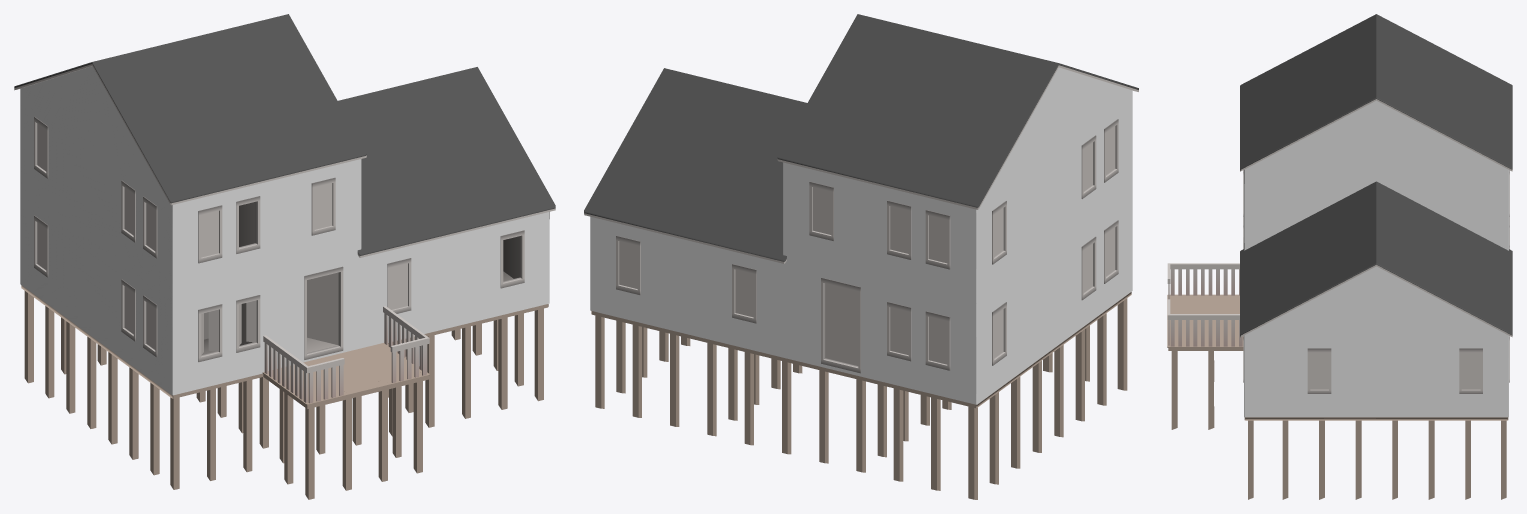
3 renders of one model, left to right at view 1: azimuth 30°, elevation 25°; view 2: azimuth 150°, elevation 25°; view 3: azimuth 270°, elevation 25°, orthographic. The views are drawn at different scales.
Parts seen in each view (by area): view 1: Cube_892; view 2: Cube_892; view 3: Cube_892.
Part boxes in pixels (x1,y1,x2,y2): Cube_892: (14, 14, 555, 499); Cube_892: (584, 14, 1138, 499); Cube_892: (1167, 14, 1512, 499).
Size of the model in its own units: 10.2 by 9.13 by 9.51.
